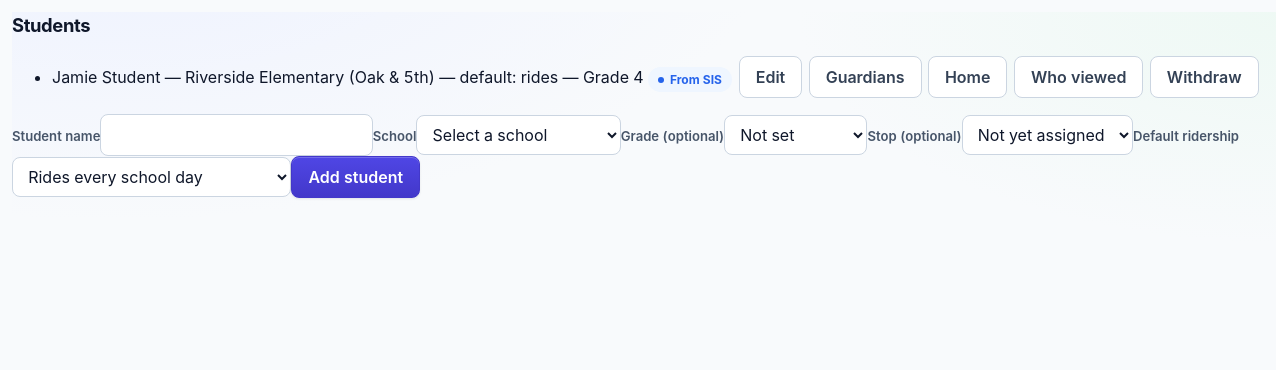
Test case: StudentsSection › locks a SIS student's grade
The width and height of the screenshot is (1276, 370).
Click the button with aria-label "Edit Jamie Student": x=770, y=77 [739,56,802,98]
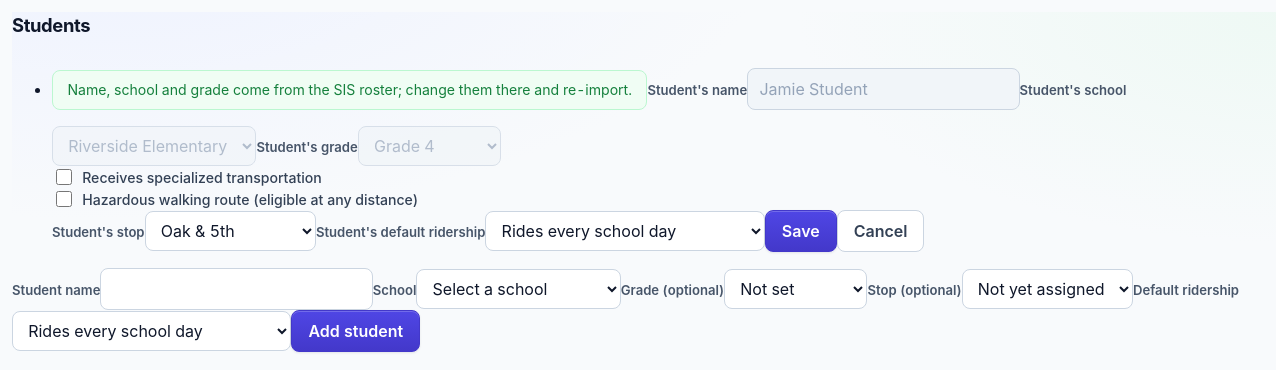
Now the dropdown labelled "Student's grade" is disabled, box [358,126,501,166]
